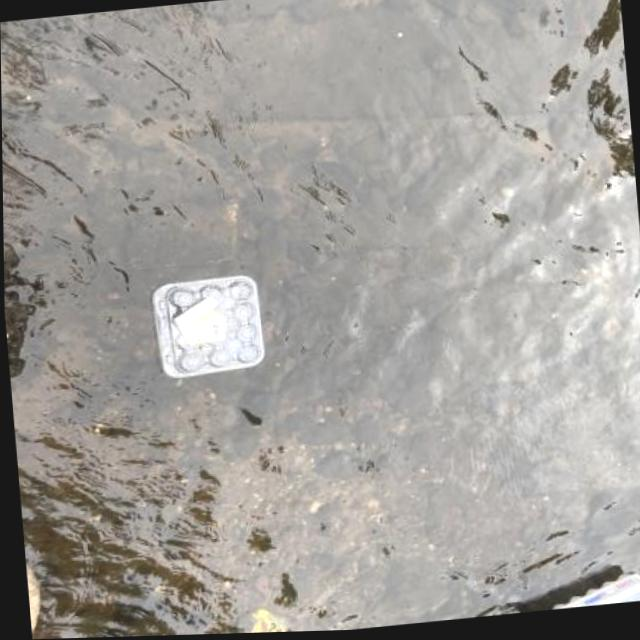Can-Metal: (221, 599, 299, 635)
Plastic: (140, 266, 273, 391), (514, 566, 640, 615)
